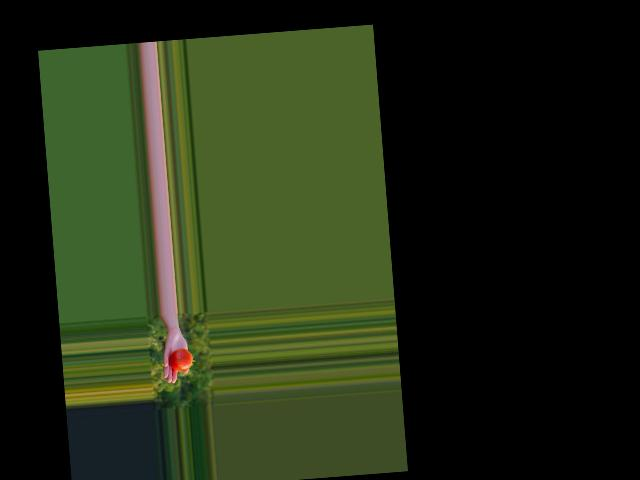tomato: (167, 348, 192, 371)
